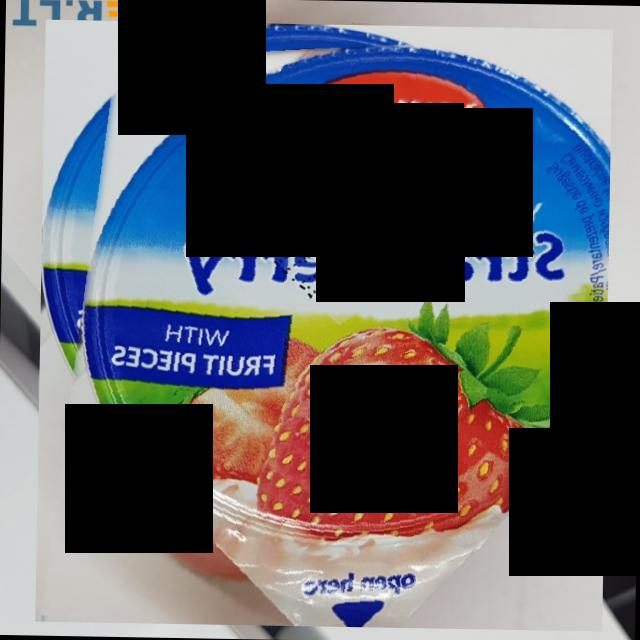yogurt: (35, 19, 612, 631)
